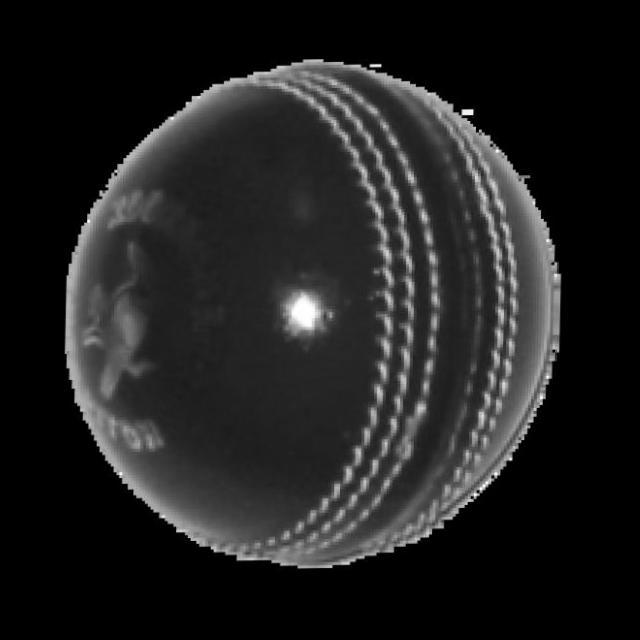cricket ball: (69, 61, 558, 569)
